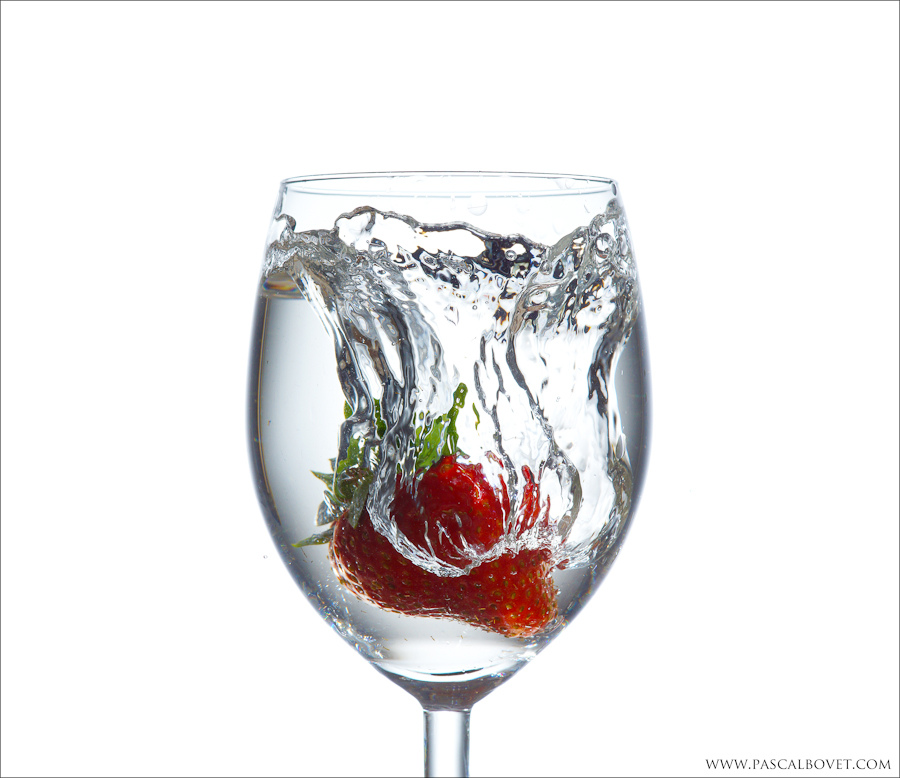glass of water: (247, 137, 647, 771)
